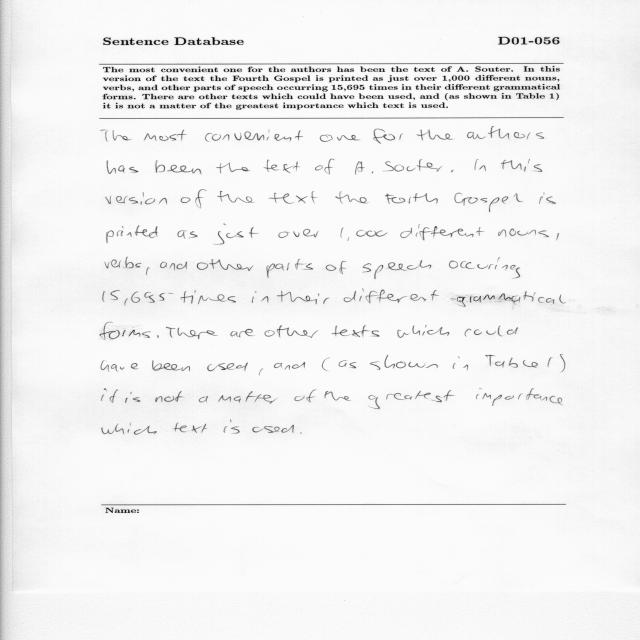word: (451, 291, 565, 307), (369, 390, 455, 409), (476, 388, 563, 406), (449, 258, 520, 279), (400, 224, 484, 241), (344, 289, 439, 304), (454, 193, 523, 212), (363, 260, 432, 279), (205, 129, 303, 142), (103, 290, 173, 305), (370, 355, 438, 370), (467, 127, 544, 140), (213, 224, 259, 245), (107, 225, 158, 243), (100, 322, 150, 340), (267, 259, 313, 278), (181, 290, 237, 305), (105, 192, 167, 205), (218, 391, 277, 404), (385, 159, 443, 172), (265, 325, 318, 338), (485, 355, 538, 368), (197, 259, 254, 271), (277, 291, 329, 304), (398, 325, 450, 338), (156, 161, 202, 175), (269, 191, 317, 204), (166, 327, 217, 339), (102, 423, 157, 434), (341, 228, 387, 241), (385, 193, 438, 204), (465, 326, 518, 337), (332, 325, 380, 337), (501, 159, 542, 172), (181, 190, 206, 209), (144, 130, 187, 141), (264, 160, 300, 173), (498, 229, 549, 238), (152, 360, 190, 372), (373, 129, 403, 144), (217, 191, 254, 203), (101, 360, 138, 372), (108, 160, 139, 174), (105, 257, 141, 269), (336, 191, 369, 204), (417, 130, 454, 141), (217, 163, 251, 174), (101, 130, 132, 142), (278, 229, 319, 238), (207, 363, 248, 372), (252, 425, 294, 433), (174, 423, 207, 433), (155, 391, 184, 402), (315, 159, 335, 174), (295, 390, 317, 403), (320, 135, 360, 142), (324, 391, 351, 401), (326, 261, 346, 274), (102, 388, 119, 403), (355, 161, 373, 175), (274, 362, 305, 370), (160, 262, 187, 270), (453, 356, 468, 370), (224, 420, 240, 433), (539, 192, 556, 204), (252, 291, 269, 303), (177, 230, 198, 239), (231, 329, 254, 337), (125, 392, 140, 403), (474, 159, 486, 171), (338, 360, 356, 368), (322, 358, 330, 371), (560, 355, 565, 373), (199, 396, 208, 402), (548, 357, 553, 367), (146, 267, 150, 275), (259, 369, 263, 376), (556, 233, 559, 240), (157, 335, 159, 338), (451, 170, 453, 172), (300, 433, 302, 434)
